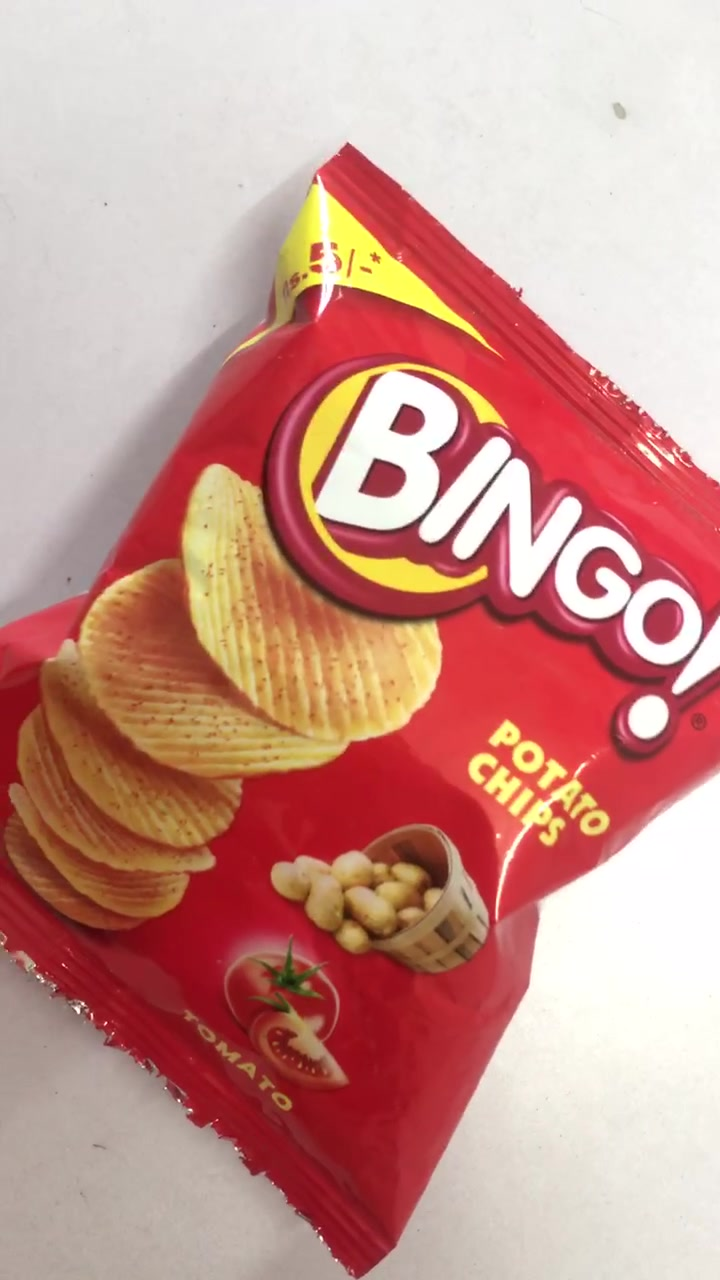Bingo: (6, 162, 720, 1195)
